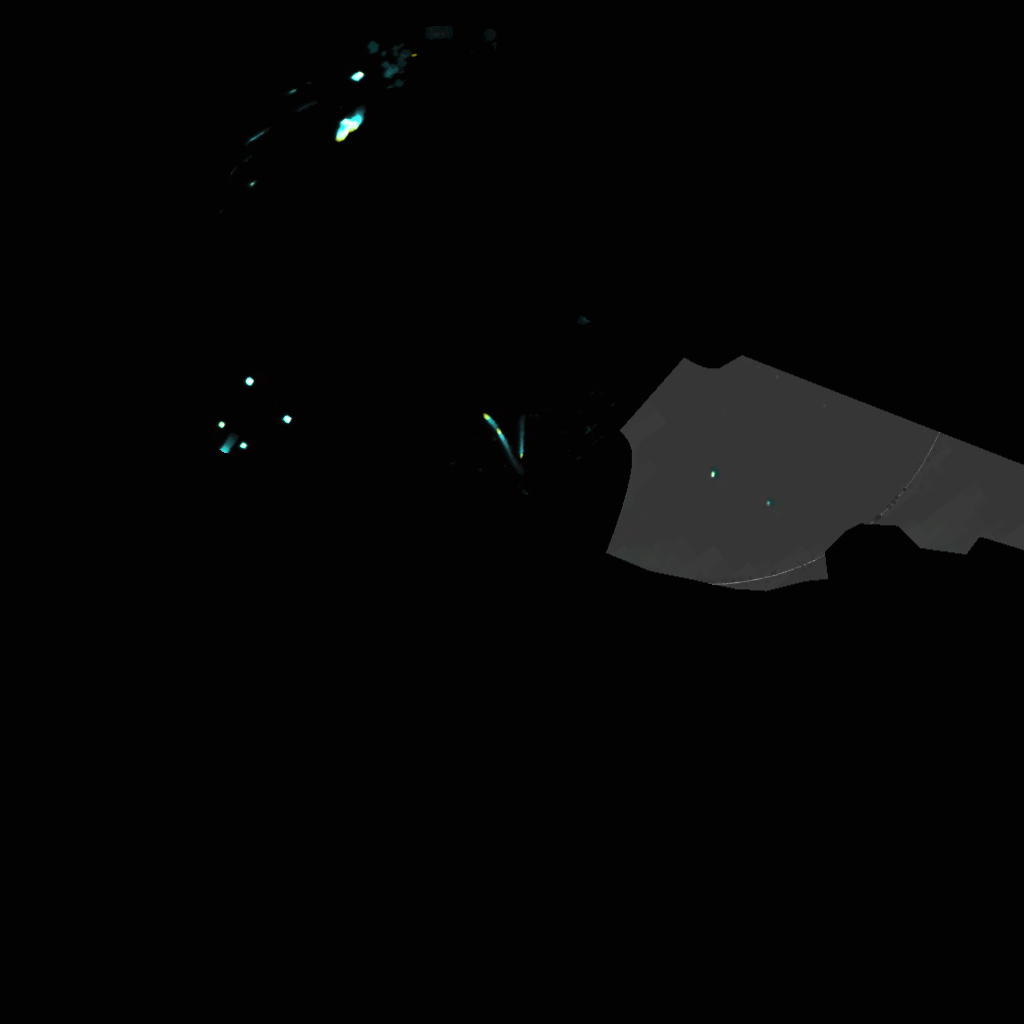B: (493, 426, 510, 455), (348, 111, 364, 133), (333, 122, 349, 143), (215, 438, 235, 453), (480, 412, 496, 428), (517, 428, 524, 458)
